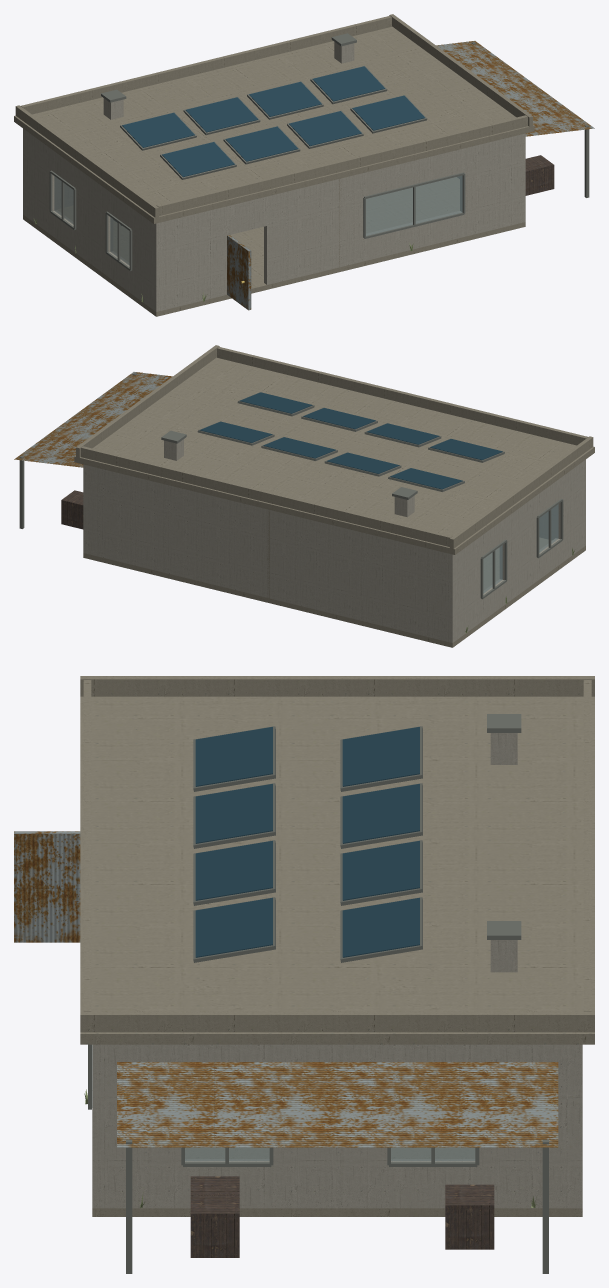
The model's file is service_building.glb.
3 views of the same model, one above another, from view 1: azimuth 30°, elevation 25°; view 2: azimuth 150°, elevation 25°; view 3: azimuth 270°, elevation 25° (orthographic). The views are drawn at different scales.
Visible parts, largest first — view 1: Roof_flat_separate, Front_wall_section_1.001, Floor_concrete_walkable.002, Front_wall_section_0.001, Front_wall_section_2.001, Roof_parapet_short_-1, Service_side_awning_roof_separate, Roof_parapet_short_1, Window_glass_separate.001, Left_wall_section_1, Left_wall_section_2, Window_sill_wall.001 (+24 smaller); view 2: Roof_flat_separate, Wall_back_separate, Roof_parapet_short_1, Roof_parapet_short_-1, Service_side_awning_roof_separate, Floor_concrete_walkable.002, Left_wall_section_1, Left_wall_section_2, Left_wall_section_0, Roof_parapet_long_-1, Roof_parapet_long_1, Left_window_frames_separate (+16 smaller); view 3: Roof_flat_separate, Service_side_awning_roof_separate, Roof_parapet_long_1, Roof_parapet_long_-1, Right_wall_section_2, Right_wall_section_1, Right_wall_section_0, Personnel_door_OPEN_separate.001, Floor_concrete_walkable.002, Solar_panel_2_0_separate, Solar_panel_3_0_separate, Solar_panel_0_0_separate (+30 smaller).
Boxes of the visible parts, <box> form: Roof_flat_separate: <box>14,26,534,223</box>; Front_wall_section_1.001: <box>264,173,363,284</box>; Floor_concrete_walkable.002: <box>23,177,525,316</box>; Front_wall_section_0.001: <box>153,205,229,311</box>; Front_wall_section_2.001: <box>460,133,525,236</box>; Roof_parapet_short_-1: <box>156,115,527,215</box>; Service_side_awning_roof_separate: <box>436,41,594,136</box>; Roof_parapet_short_1: <box>21,16,391,114</box>; Window_glass_separate.001: <box>366,175,462,235</box>; Left_wall_section_1: <box>75,167,112,275</box>; Left_wall_section_2: <box>23,128,56,234</box>; Window_sill_wall.001: <box>364,211,463,261</box>; Roof_flat_separate: <box>74,357,594,554</box>; Wall_back_separate: <box>83,464,454,642</box>; Roof_parapet_short_1: <box>81,446,452,546</box>; Roof_parapet_short_-1: <box>217,347,587,445</box>; Service_side_awning_roof_separate: <box>14,372,172,467</box>; Floor_concrete_walkable.002: <box>83,537,585,647</box>; Left_wall_section_1: <box>500,495,537,604</box>; Left_wall_section_2: <box>447,536,481,642</box>; Left_wall_section_0: <box>556,459,585,563</box>; Roof_parapet_long_-1: <box>449,436,593,551</box>; Roof_parapet_long_1: <box>76,345,219,459</box>; Left_window_frames_separate: <box>480,498,563,599</box>; Roof_flat_separate: <box>80,696,594,1044</box>; Service_side_awning_roof_separate: <box>117,1062,558,1147</box>; Roof_parapet_long_1: <box>80,1011,594,1032</box>; Roof_parapet_long_-1: <box>80,676,594,696</box>; Right_wall_section_2: <box>477,1044,582,1208</box>; Right_wall_section_1: <box>271,1044,388,1208</box>; Right_wall_section_0: <box>92,1044,182,1208</box>; Personnel_door_OPEN_separate.001: <box>14,831,80,942</box>; Floor_concrete_walkable.002: <box>92,1148,582,1216</box>; Solar_panel_2_0_separate: <box>195,840,272,900</box>; Solar_panel_3_0_separate: <box>195,897,272,957</box>; Solar_panel_0_0_separate: <box>195,726,272,786</box>.
Bounding box in the file's own units: 19.55 × 5.1 × 11.85.
Materials: 9 (4 with a texture image).
